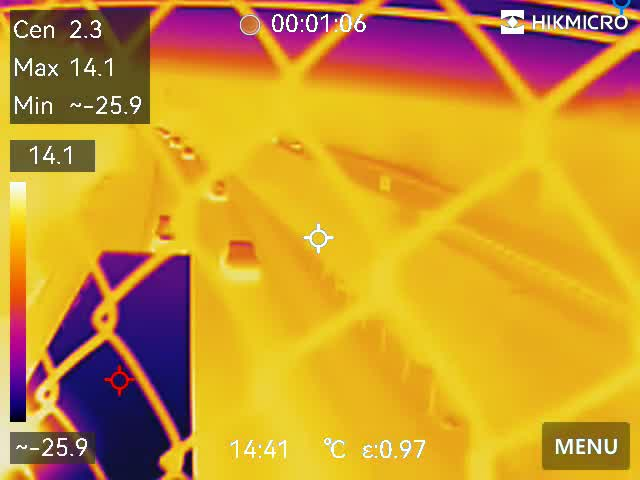heavyTruck: (25, 247, 196, 480)
vehicle: (224, 237, 261, 286), (154, 210, 177, 246), (209, 177, 226, 204), (177, 147, 200, 161), (164, 136, 185, 149)
